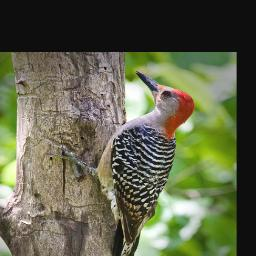Woodpecker: (41, 67, 205, 256)
